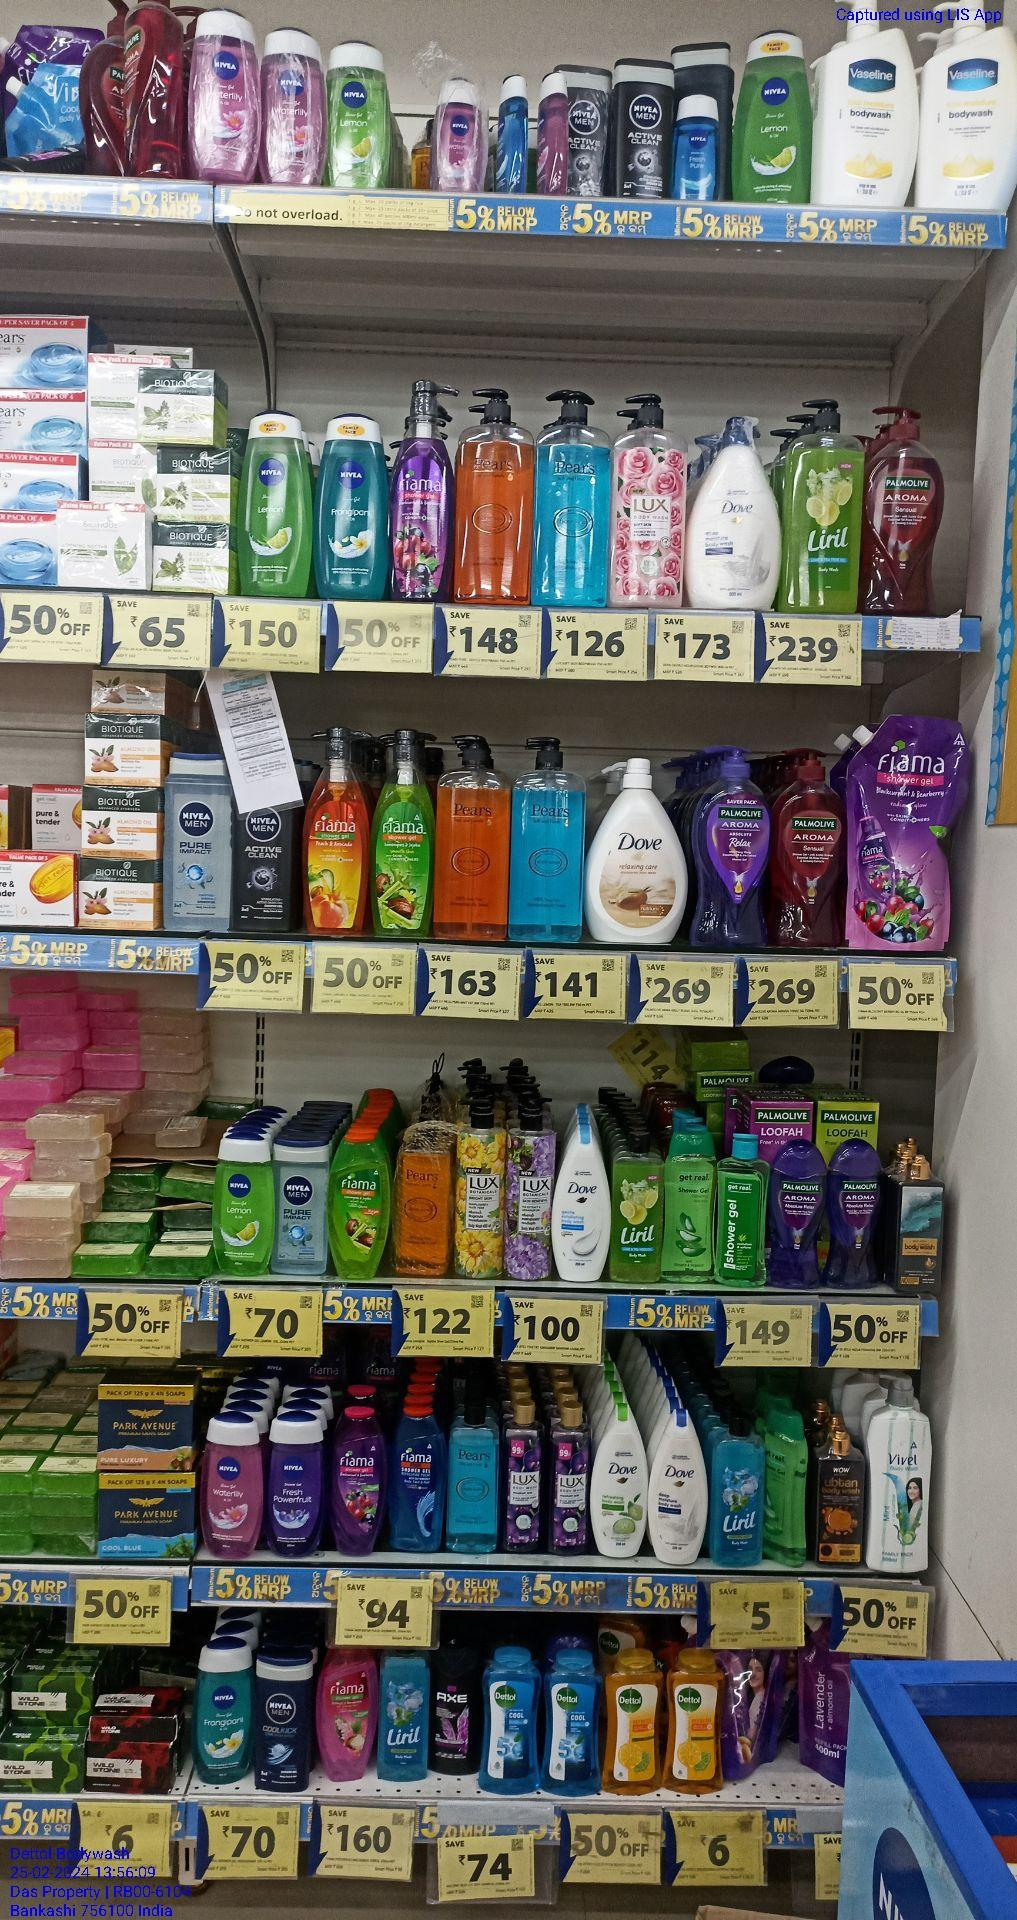Dettol_Bodywash_Cool: (484, 1655, 541, 1792), (546, 1652, 599, 1796)
Dettol_Bodywash_Refresh: (604, 1652, 663, 1794), (668, 1653, 726, 1792)
Dove_Deep_Moisture_Body_Wash_250ML: (650, 1408, 706, 1563)
Dove_Gentle_Exfoliating_Body_Wash_250ML: (554, 1128, 607, 1284)
Dove_Refreshing_Body_Wash_250ML: (593, 1404, 648, 1558)
Fiama_Shower_Gel_Lemongrass_and_Jojoba_250ML: (331, 1137, 382, 1277)
Liril_Cooling_Mint_Body_Wash_250ML: (716, 1415, 766, 1564), (381, 1650, 429, 1780)
Liril_Lime_and_Tea_Tree_Oil_Body_Wash_250ML: (611, 1134, 661, 1281)
Lux_Black_Orchid_Scent_and_Juniper_Oil_Body_Wash_245ML: (551, 1404, 590, 1554), (505, 1403, 543, 1553)
Nivea_Shower_Gel_Frangipani_and_Oil_250ML: (315, 411, 389, 594), (196, 1641, 248, 1784)
Nivea_Shower_Gel_Fresh_Powerfruit_250ML: (270, 1417, 326, 1558)
Nivea_Shower_Gel_Lemon_and_Oil_250ML: (735, 29, 815, 201), (240, 410, 312, 597), (330, 43, 392, 184), (213, 1137, 272, 1279)
Nivea_Shower_Gel_Waterlily_and_Oil_250ML: (190, 6, 255, 180), (263, 28, 328, 185), (204, 1416, 259, 1558), (435, 79, 488, 190)
Palmolive_Aroma_Relax_250ML: (829, 1138, 881, 1288), (771, 1139, 823, 1288)
Palmolive_Luminous_Oils_Invigorating_Macadamia_Oil_With_Peony_250ML: (320, 1644, 373, 1780)
Pears_Pure_Glycerin_and_Mint_Extracts_Body_Wash_250ML: (449, 1408, 500, 1552)
